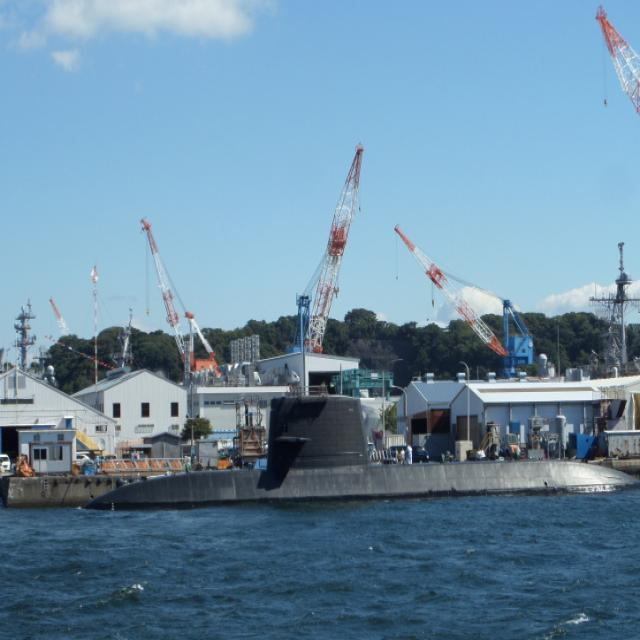submarine: (97, 390, 640, 487)
